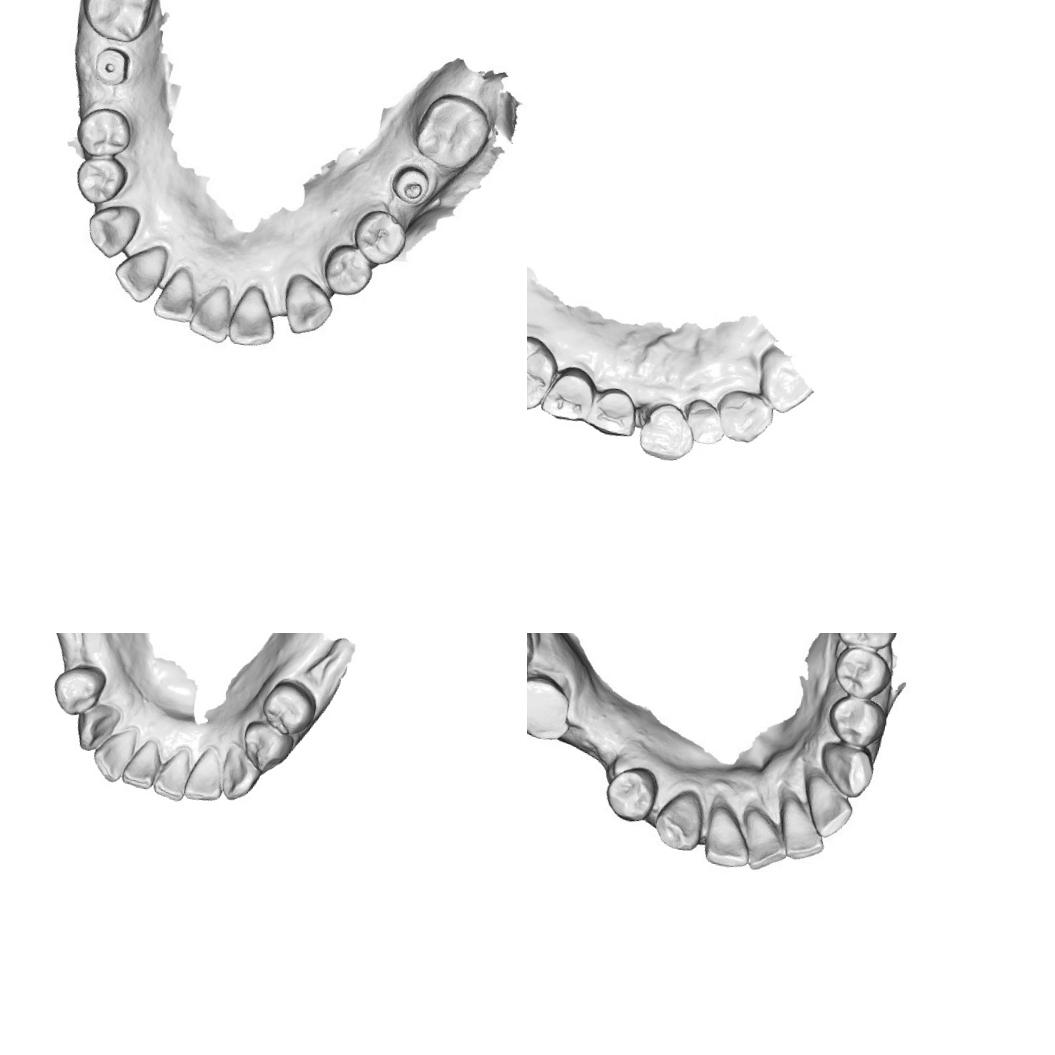canine: (634, 398, 702, 466), (280, 271, 336, 336), (654, 789, 706, 852), (214, 740, 264, 805), (820, 741, 877, 797), (84, 200, 139, 258), (70, 698, 122, 757)
implant: (386, 154, 439, 214), (89, 40, 136, 92)
incisor: (796, 764, 857, 836), (773, 790, 832, 862), (710, 386, 778, 448), (112, 241, 172, 310), (227, 277, 282, 352), (699, 795, 754, 870), (734, 805, 793, 873), (188, 272, 242, 344), (86, 721, 142, 787), (179, 742, 232, 806), (148, 742, 195, 803), (118, 732, 164, 792), (154, 267, 201, 325), (680, 395, 729, 447)
molar: (410, 92, 496, 174), (527, 667, 575, 746), (84, 0, 156, 44), (831, 633, 901, 652)
premolar: (256, 672, 322, 740), (47, 657, 110, 723), (232, 716, 295, 780), (538, 361, 599, 424), (600, 766, 658, 824), (320, 240, 376, 300), (74, 104, 134, 159), (586, 382, 642, 440), (835, 641, 893, 696), (527, 329, 563, 414), (829, 693, 884, 748), (352, 209, 406, 264), (75, 154, 128, 206)
